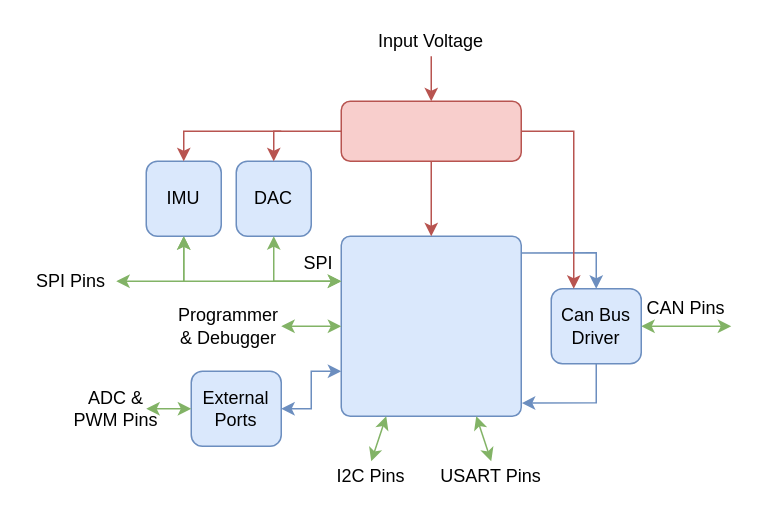
This 771x516 diagram has some shape labels left out. Each missing label, with the centre of its shape:
"Linear Regulator" goes at point 430,130.
"MCU" goes at point 430,325.
